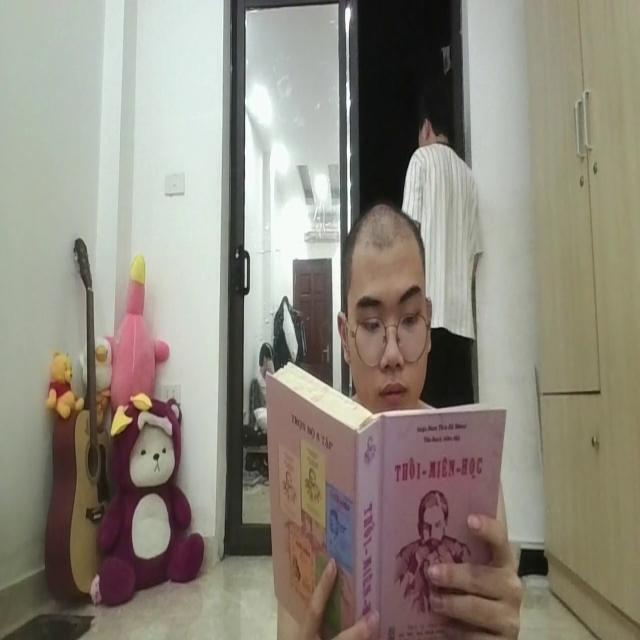book: (261, 351, 508, 640)
extra_person: (404, 79, 481, 408)
student: (331, 197, 431, 411)
